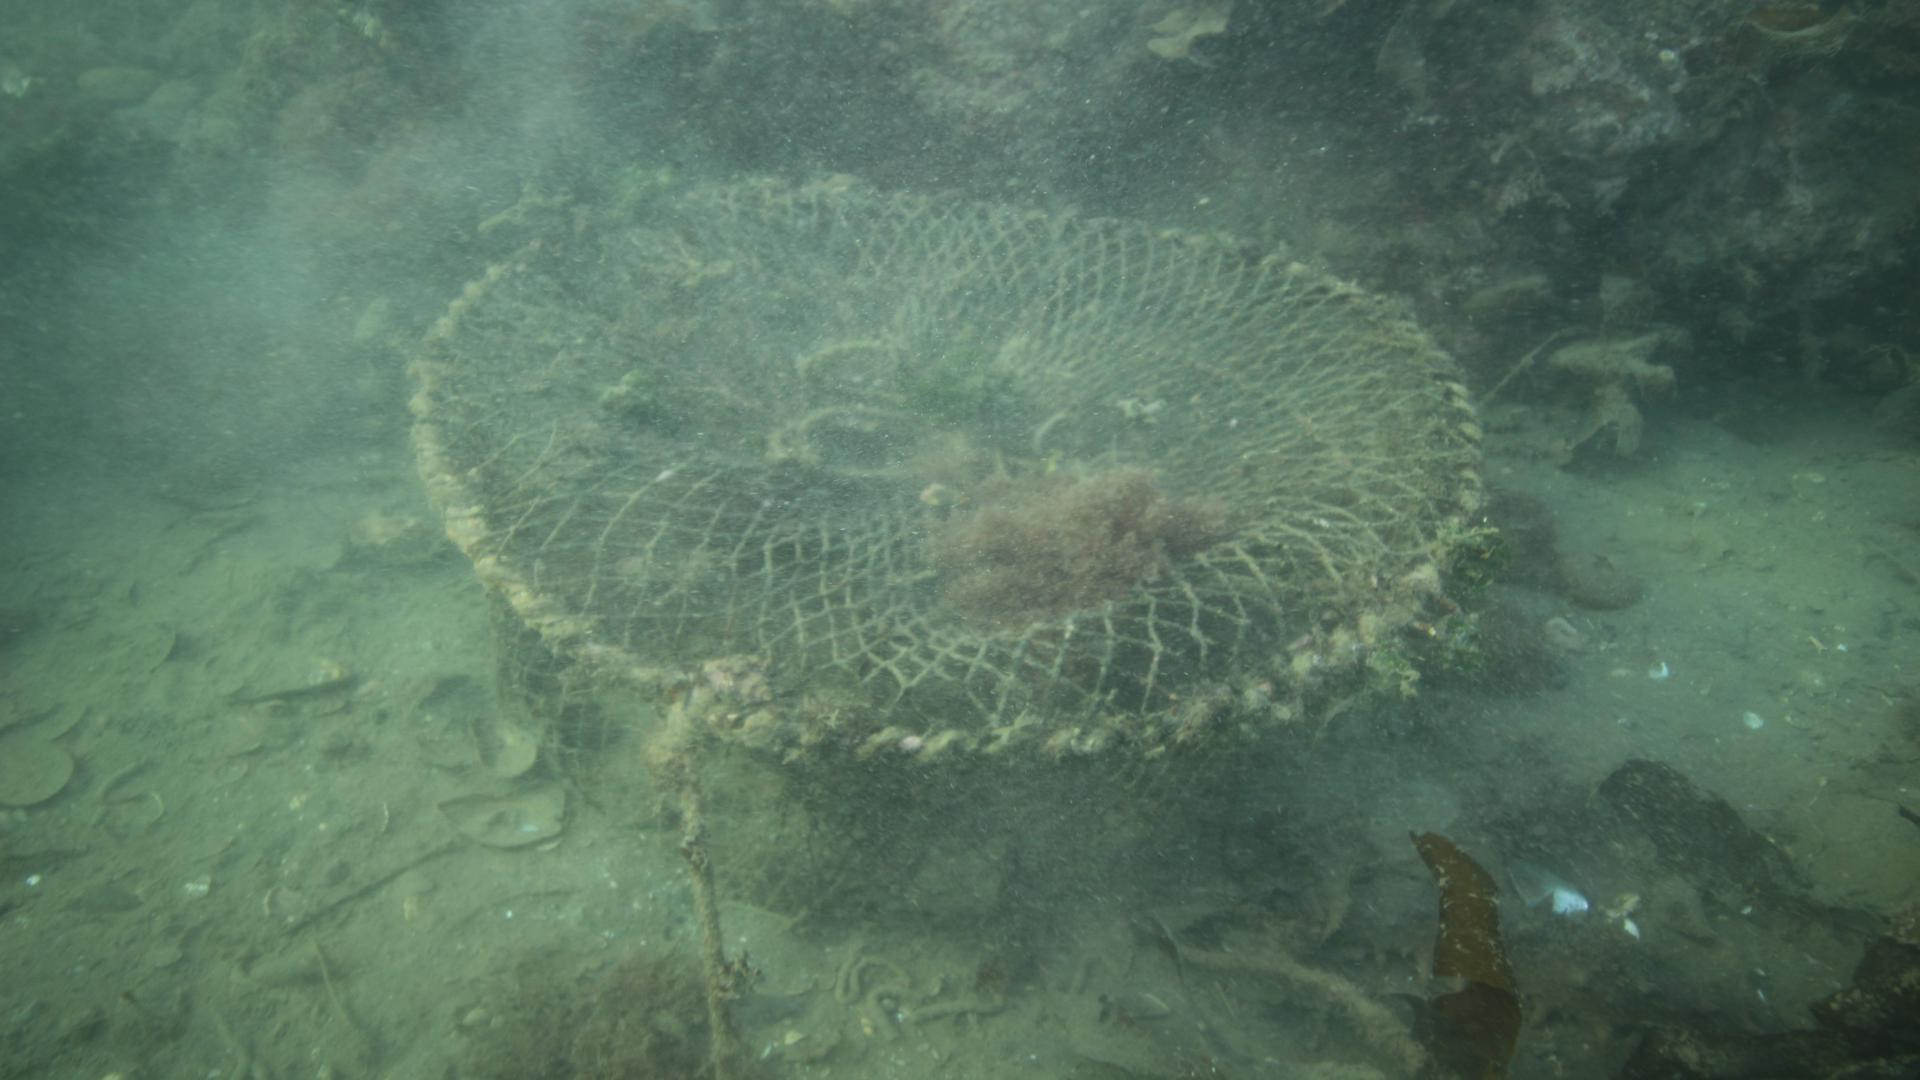circular fish trap: (406, 170, 1487, 930)
